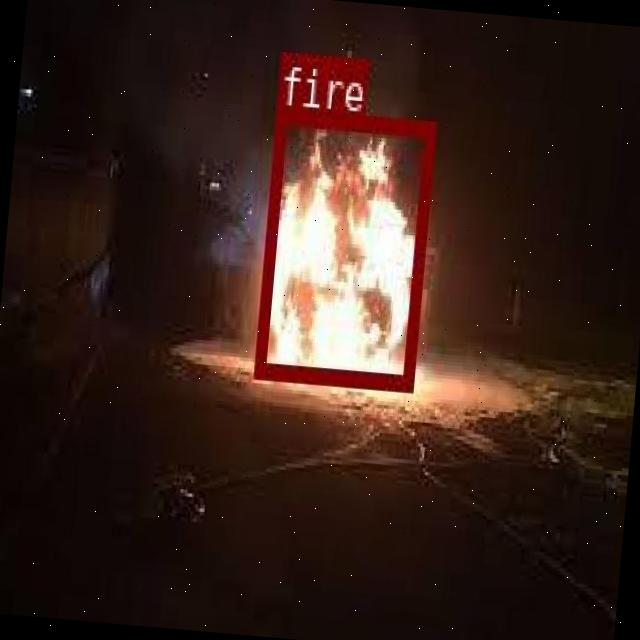fire: (252, 106, 435, 390)
